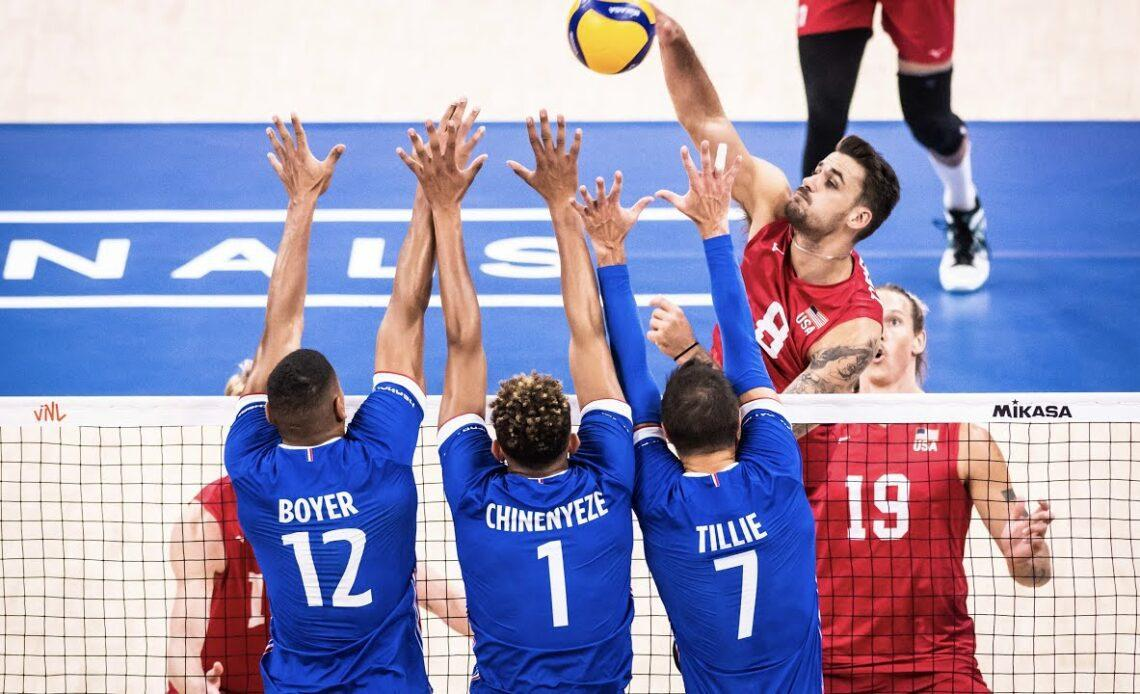ballon_volley: (566, 1, 655, 76)
